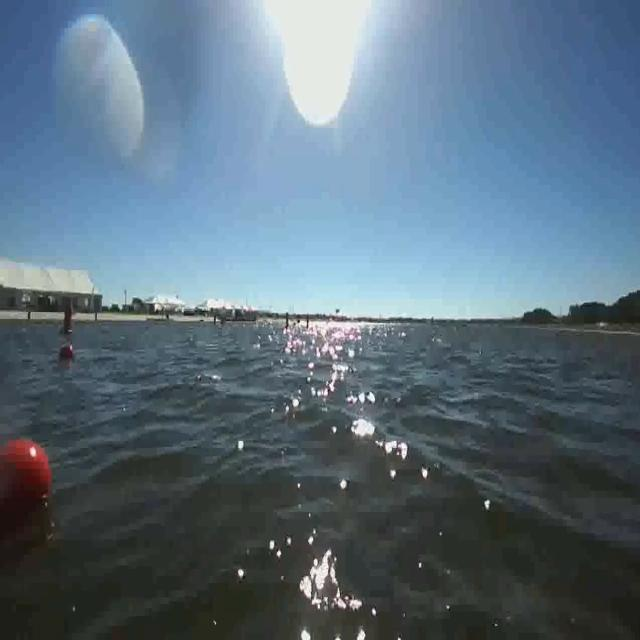red-buoy: (3, 440, 50, 517), (60, 346, 76, 362)
